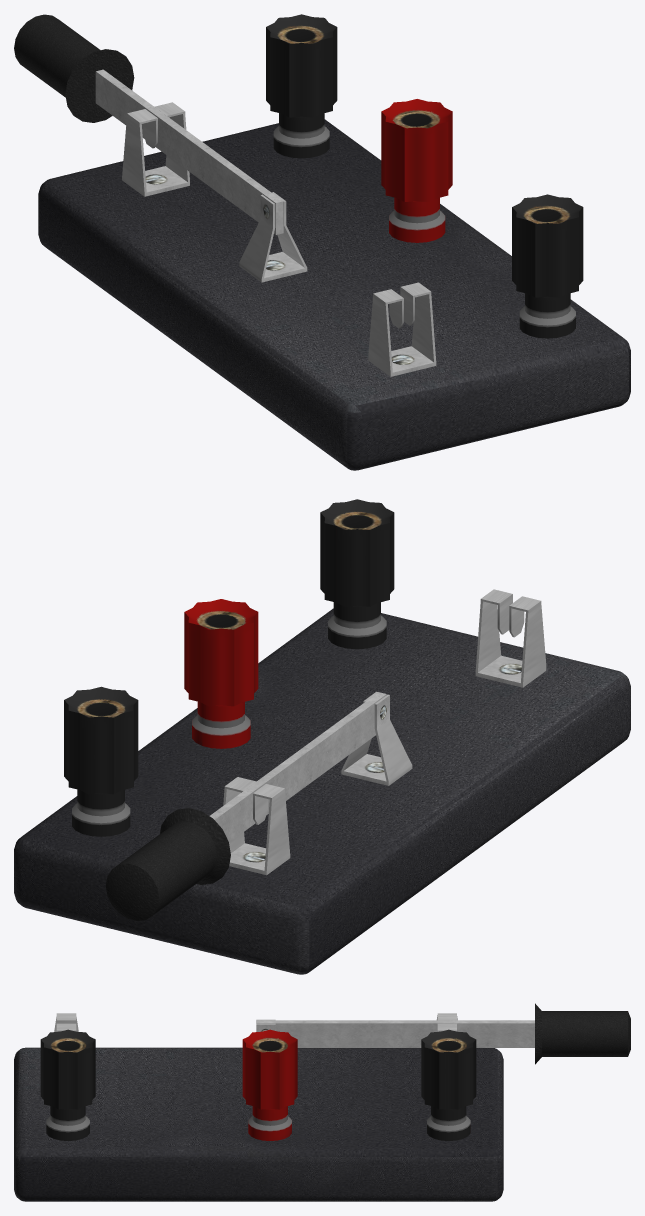
File: Electro05_1.FBX
3 renders of one model, top to bottom at view 1: azimuth 30°, elevation 25°; view 2: azimuth 150°, elevation 25°; view 3: azimuth 270°, elevation 25°, orthographic. The views are drawn at different scales.
Parts seen in each view (by area): view 1: Electro05-1; view 2: Electro05-1; view 3: Electro05-1.
Boxes of the visible parts, bbox=[...] form: Electro05-1: bbox=[14, 14, 630, 470]; Electro05-1: bbox=[14, 499, 630, 974]; Electro05-1: bbox=[14, 1003, 630, 1201].
Bounding box in the file's own units: 25.66 × 15.86 × 61.71.
